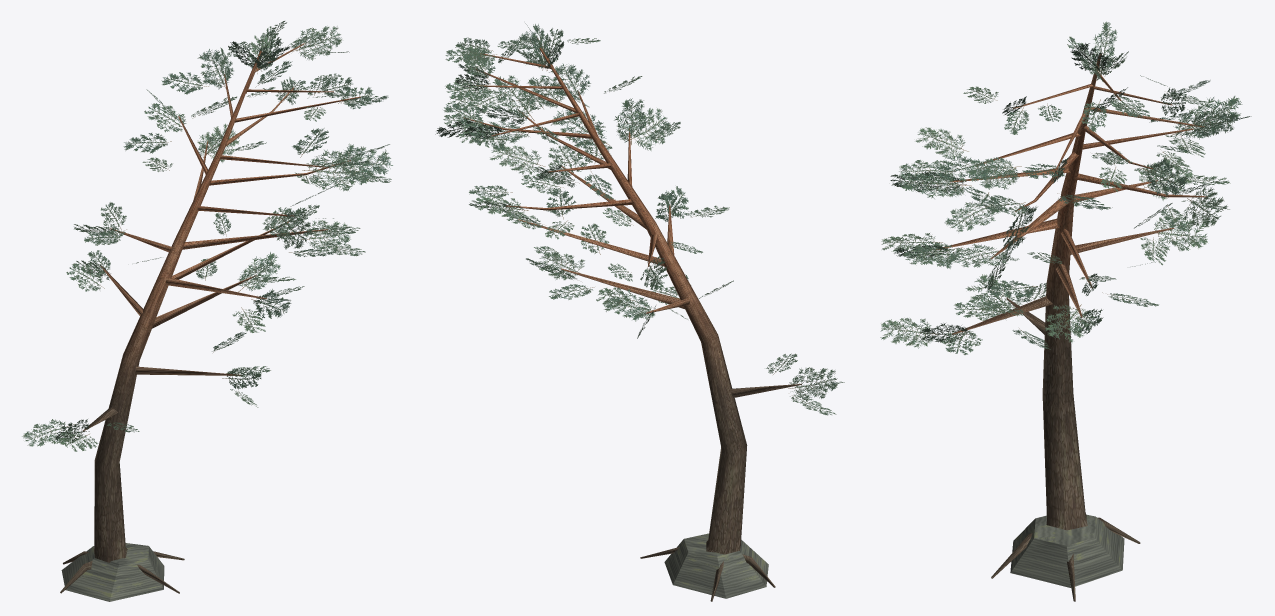
Rendered from tree-pine-2_lod1.glb.
3 views of the same model, side by side, from view 1: azimuth 30°, elevation 25°; view 2: azimuth 150°, elevation 25°; view 3: azimuth 270°, elevation 25° (orthographic). The views are drawn at different scales.
Parts seen in each view (by area): view 1: Scots Pine – Cliff LOD1; view 2: Scots Pine – Cliff LOD1; view 3: Scots Pine – Cliff LOD1.
Boxes of the visible parts, left/top/right/bottom form: Scots Pine – Cliff LOD1: left=22, top=21, right=392, bottom=601; Scots Pine – Cliff LOD1: left=435, top=23, right=844, bottom=601; Scots Pine – Cliff LOD1: left=880, top=21, right=1251, bottom=601.
Size of the model in its own units: 7.75 by 10 by 5.53.
Materials: 2 (2 with a texture image).
